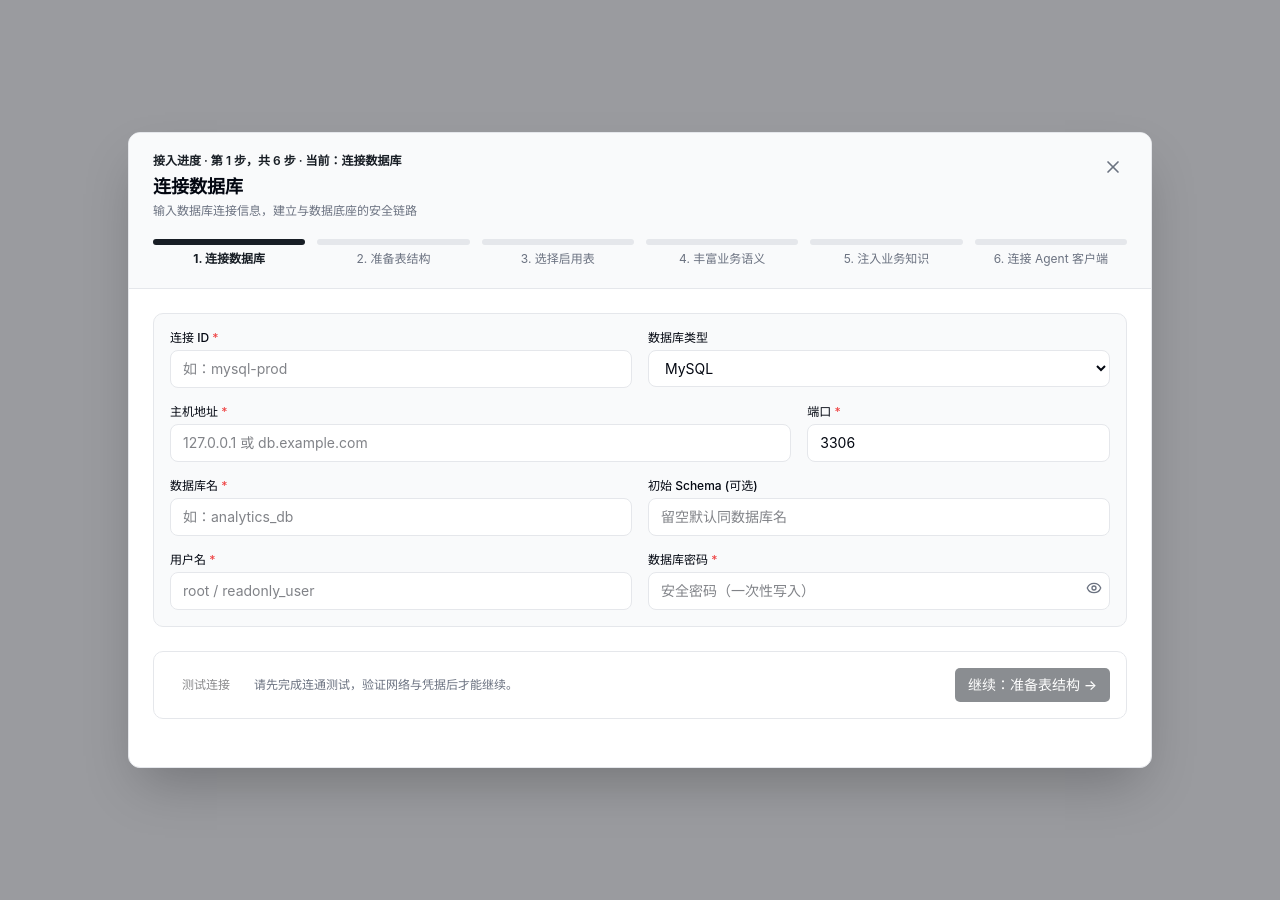
Test: SetupAssistantModal Component › uses main as the default SQLite schema after switching from a server database
This screenshot has width=1280, height=900.
In the field with test id "setup-conn-id": point(401, 369) 170,350 -> 632,388, type "local-sqlite"
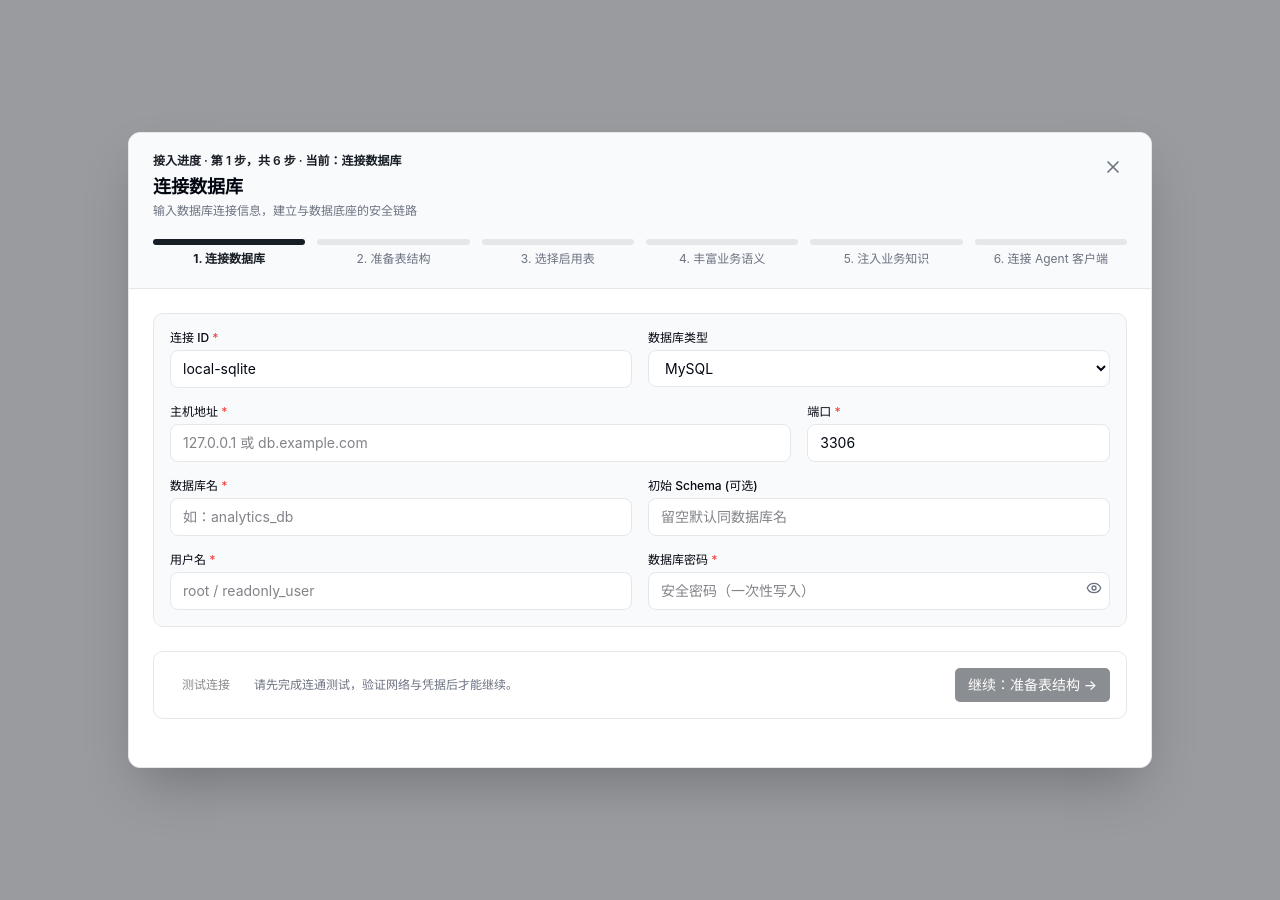
In the field with test id "setup-database": point(401, 517) 170,498 -> 632,536, type "analytics_db"
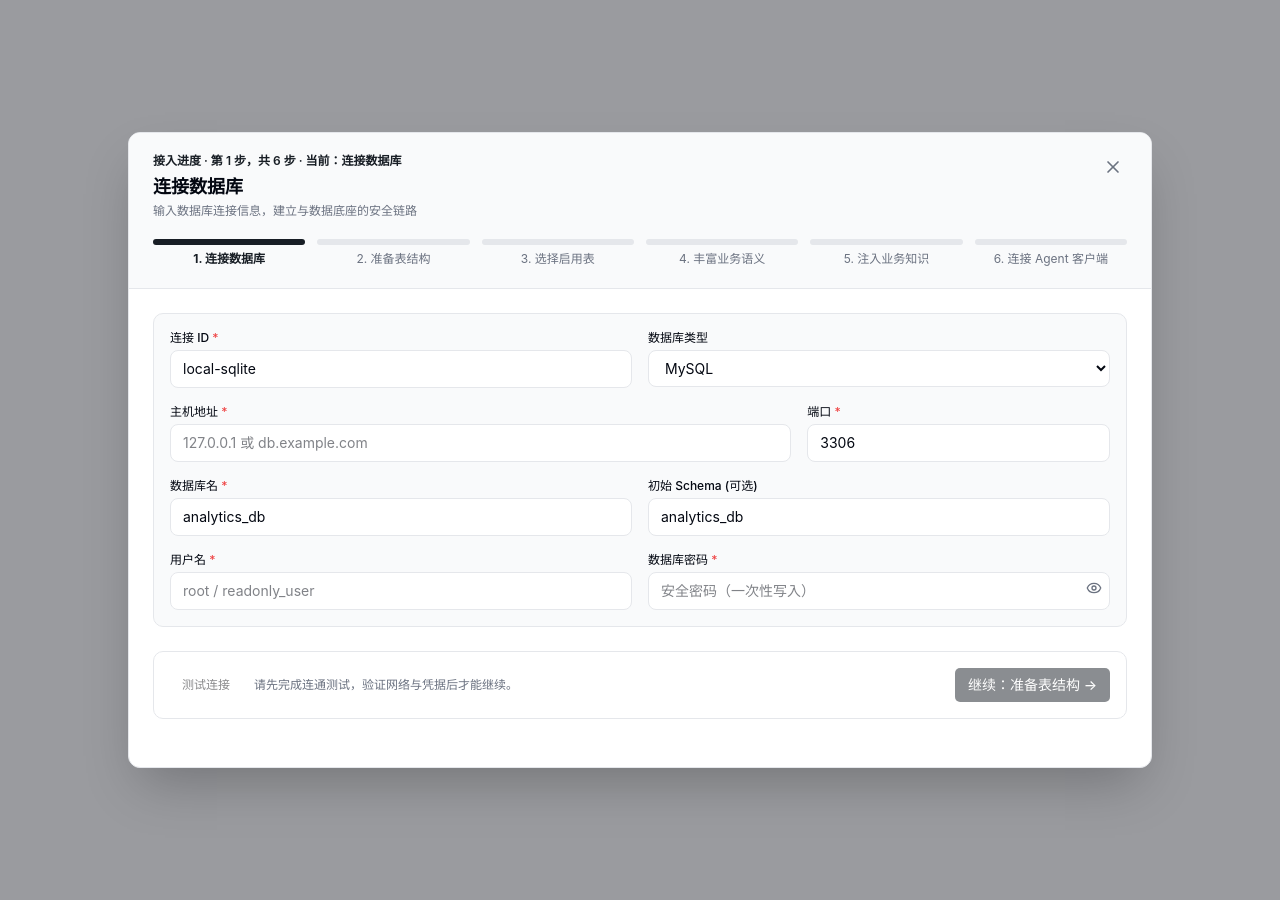
Expected: the field with test id "setup-schema" holds "analytics_db", 648,498 -> 1110,536
Select "SQLite" in the dropdown with test id "setup-driver": point(879, 368) 648,350 -> 1110,387
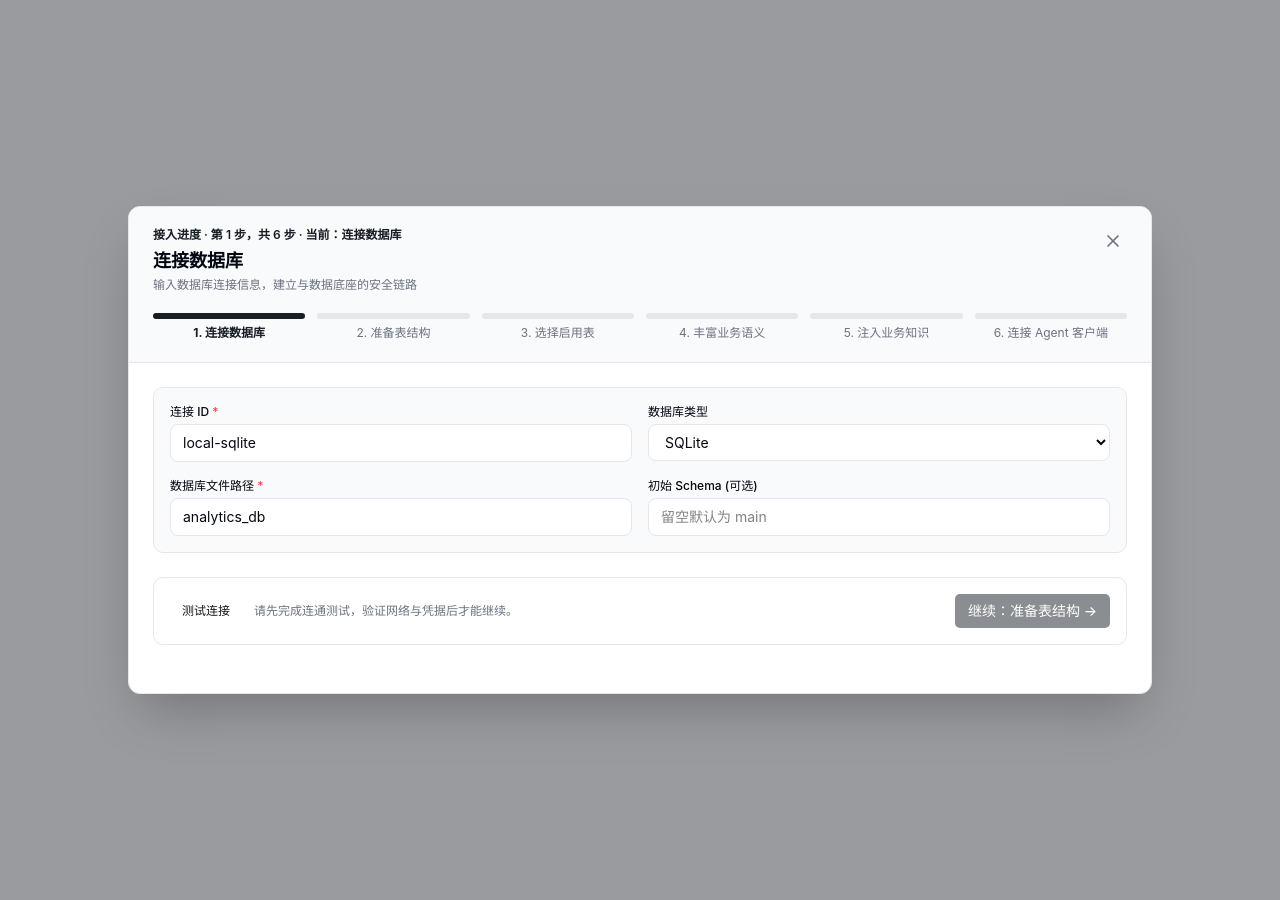
Expected: the field with test id "setup-schema" is empty, 648,498 -> 1110,536
Replace the text in the field with test id "setup-database" with "db/analytics.sqlite": point(401, 517) 170,498 -> 632,536
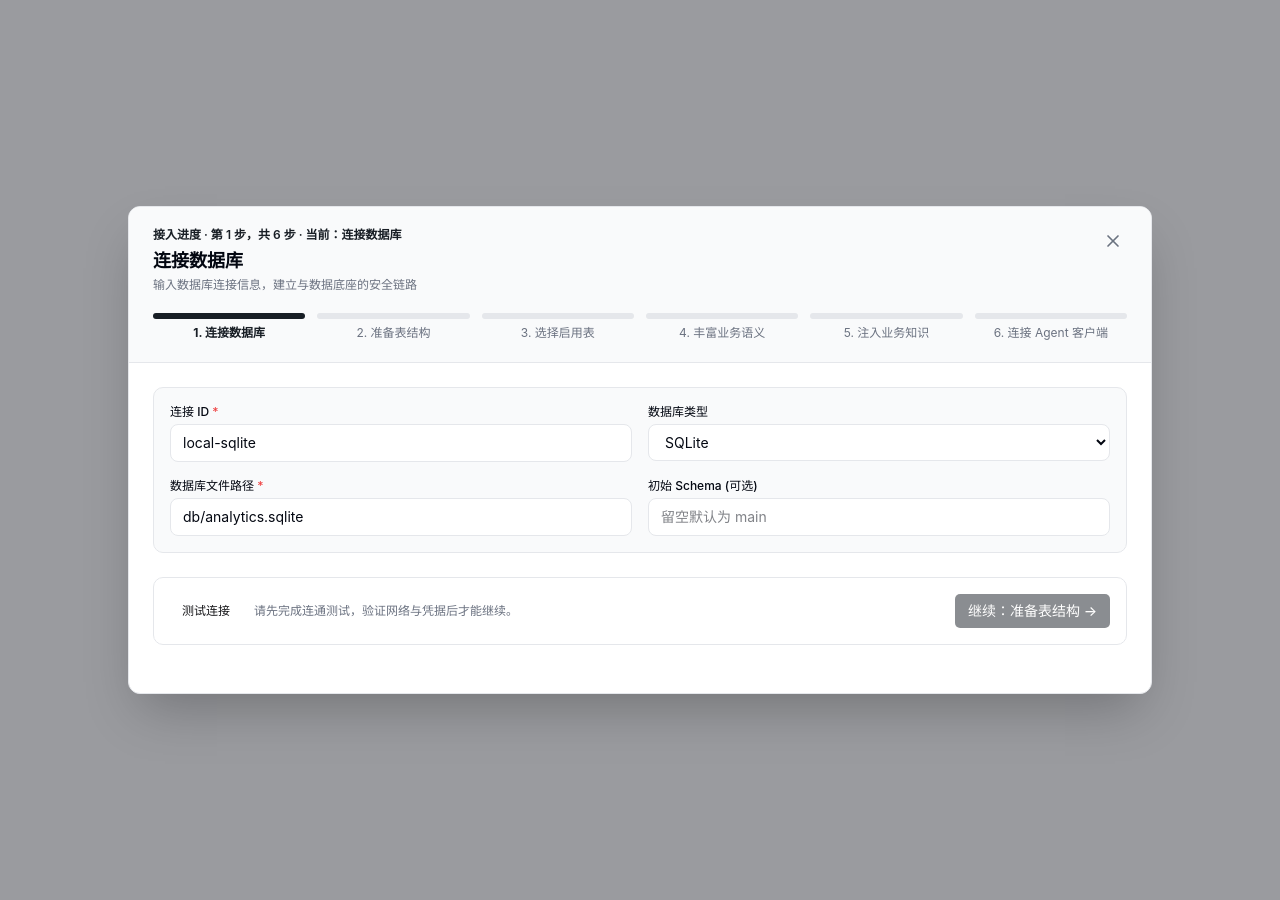
Click the button with test id "setup-probe-btn": point(206, 611) 170,597 -> 242,625
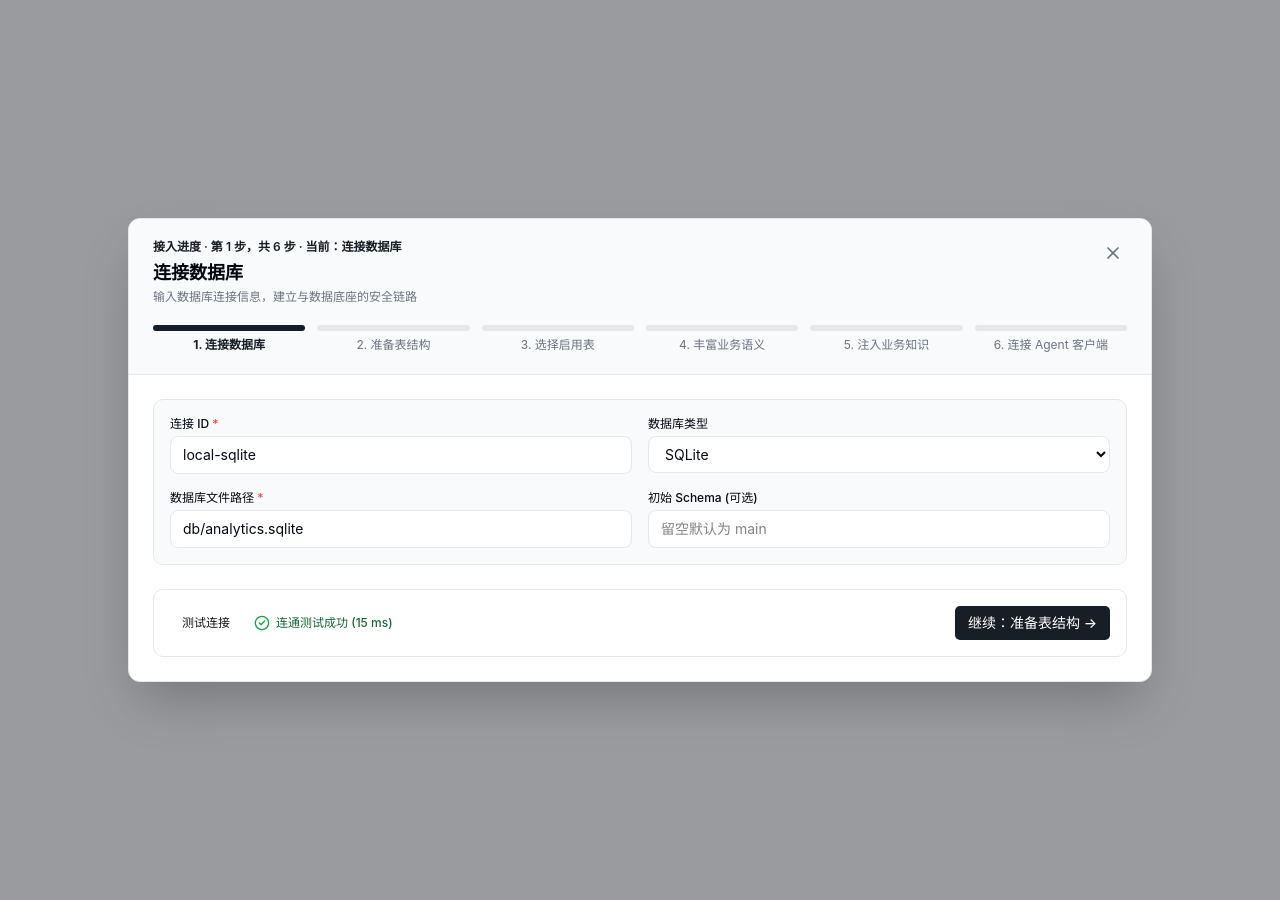
Expected: the text "连通测试成功 (15 ms)" is shown, 254,615 -> 393,631
Click the button "继续：准备表结构 →": point(1032, 623) 955,606 -> 1110,640
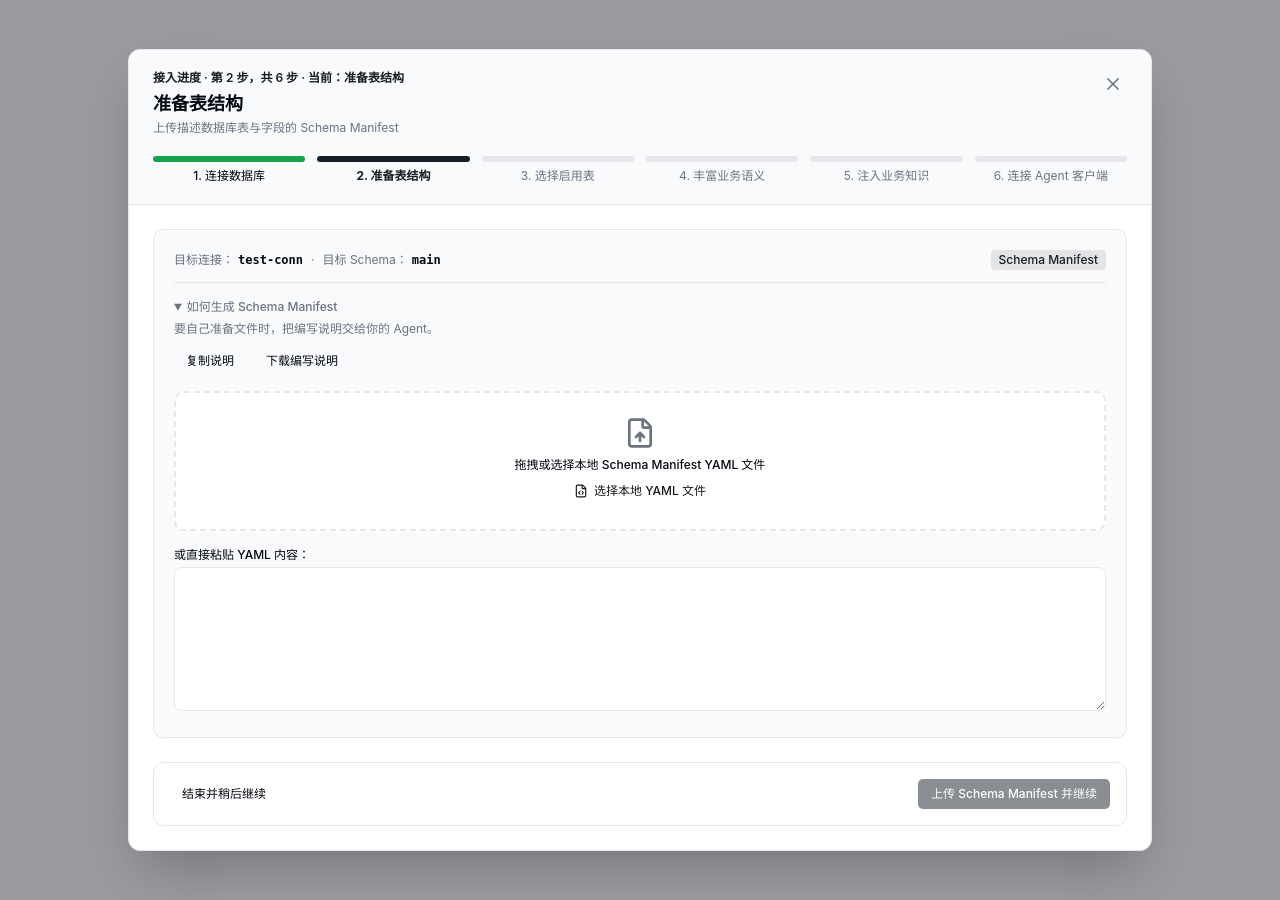
Expected: the element with test id "setup-step-2" is shown, 153,229 -> 1127,826
